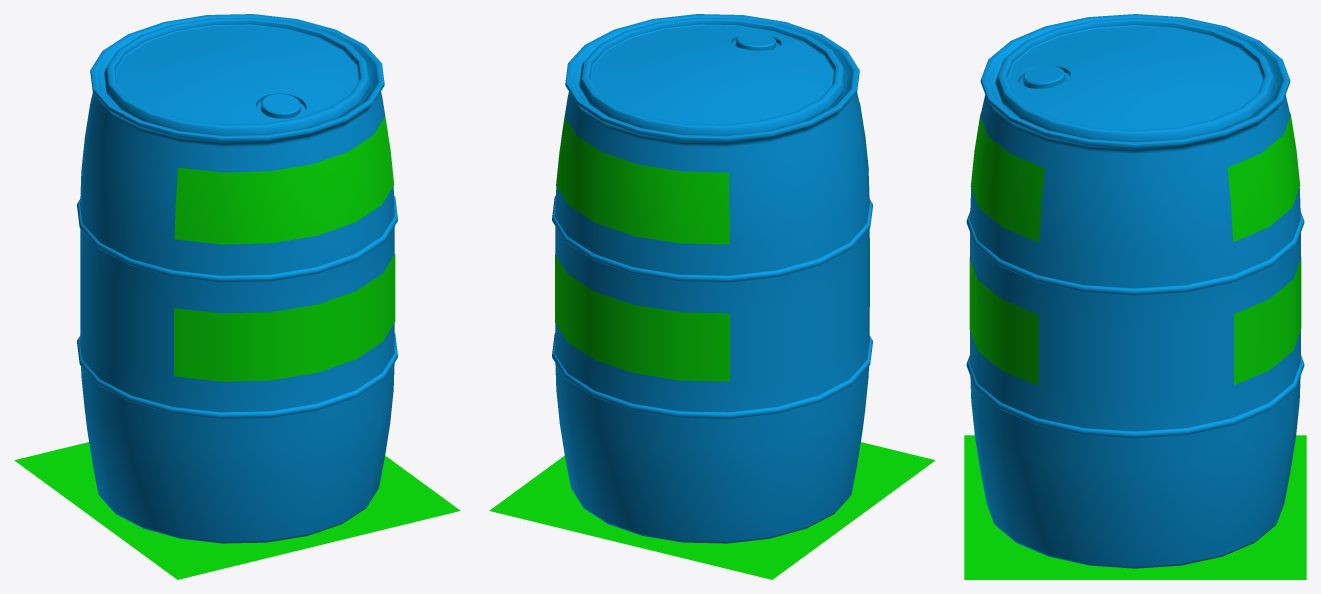
File: barrel.fbx
3 views of the same model, side by side, from view 1: azimuth 30°, elevation 25°; view 2: azimuth 150°, elevation 25°; view 3: azimuth 270°, elevation 25° (orthographic). The views are drawn at different scales.
Visible parts, largest first — view 1: barrel_03, barrel_sticker_decal, barrel_02, barrel_shdw_decal, barrel_01; view 2: barrel_03, barrel_sticker_decal, barrel_02, barrel_shdw_decal, barrel_01; view 3: barrel_03, barrel_02, barrel_sticker_decal, barrel_shdw_decal, barrel_01.
Boxes of the visible parts, x1,y1,x2,y2 form: barrel_03: (77,14,397,543); barrel_sticker_decal: (174,116,395,381); barrel_02: (104,17,370,135); barrel_shdw_decal: (14,442,460,579); barrel_01: (256,94,305,118); barrel_03: (552,14,872,543); barrel_sticker_decal: (555,102,869,381); barrel_02: (579,17,845,135); barrel_shdw_decal: (489,442,935,579); barrel_01: (732,32,779,50); barrel_03: (966,14,1304,568); barrel_02: (995,18,1275,141); barrel_sticker_decal: (969,113,1301,385); barrel_shdw_decal: (964,435,1306,579); barrel_01: (1019,65,1069,88).
Bounding box in the file's own units: 72.38 × 102 × 72.38.
